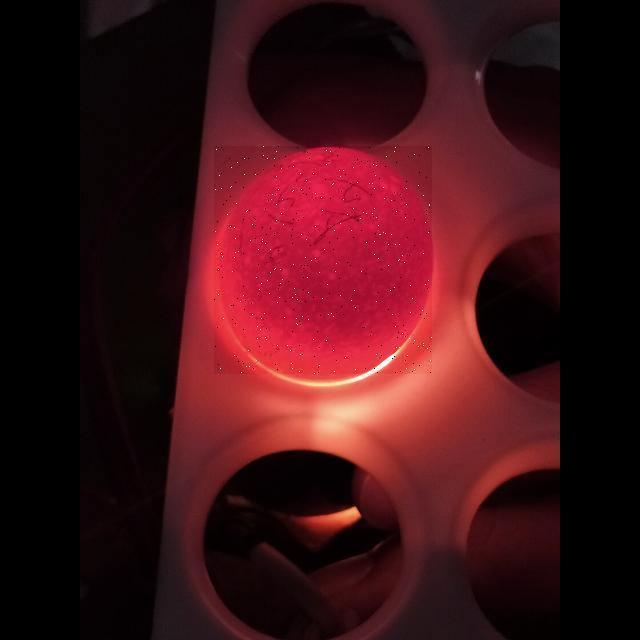Infertile: (214, 146, 432, 374)
